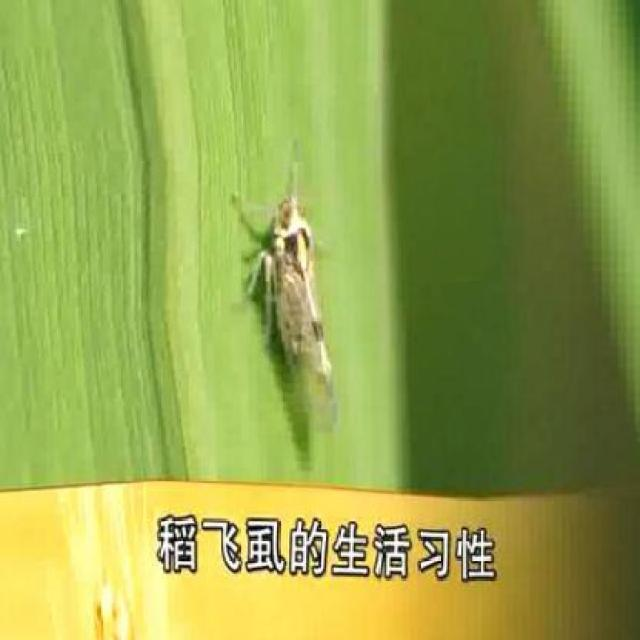brown-planthopper: (267, 197, 339, 432)
